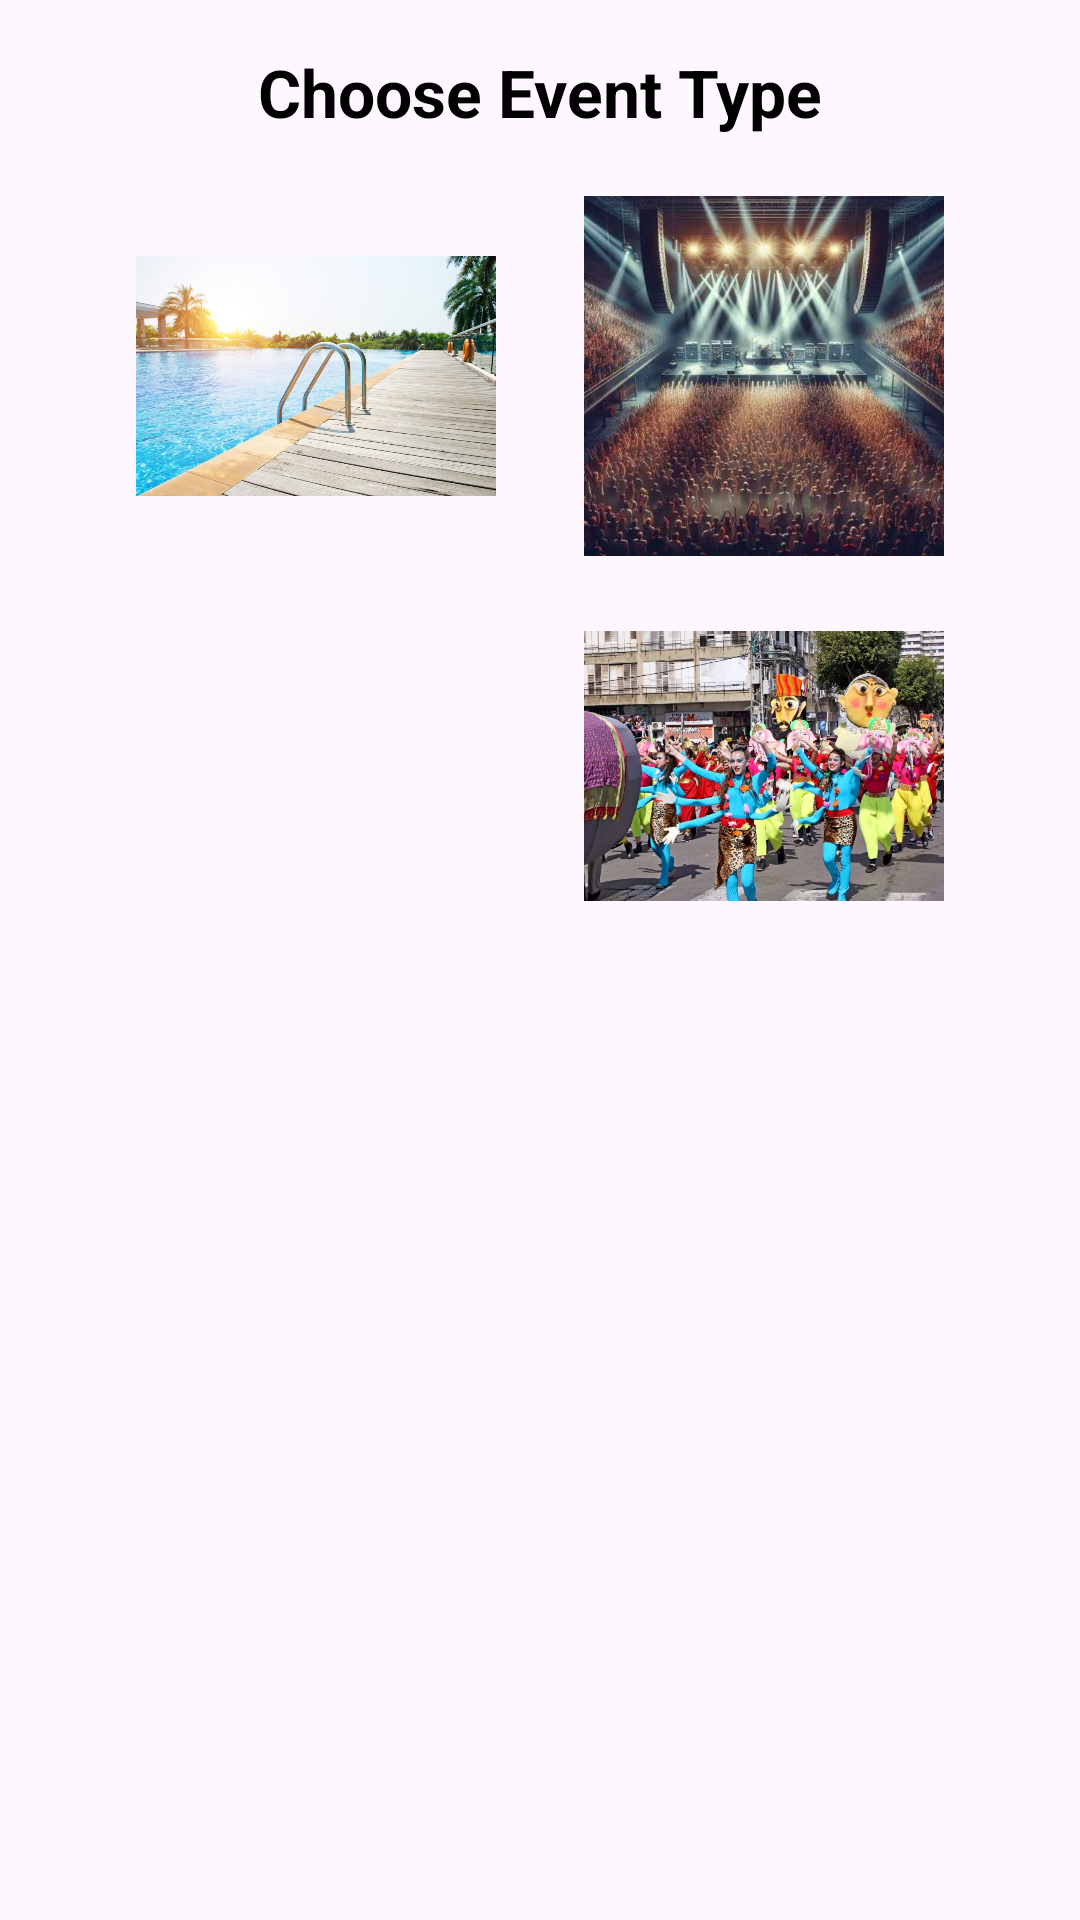

Named icons in this screenshot (1080*1920) and their bounding boxes, box(x1, y1, x2, y2):
pool: box(136, 256, 496, 496)
